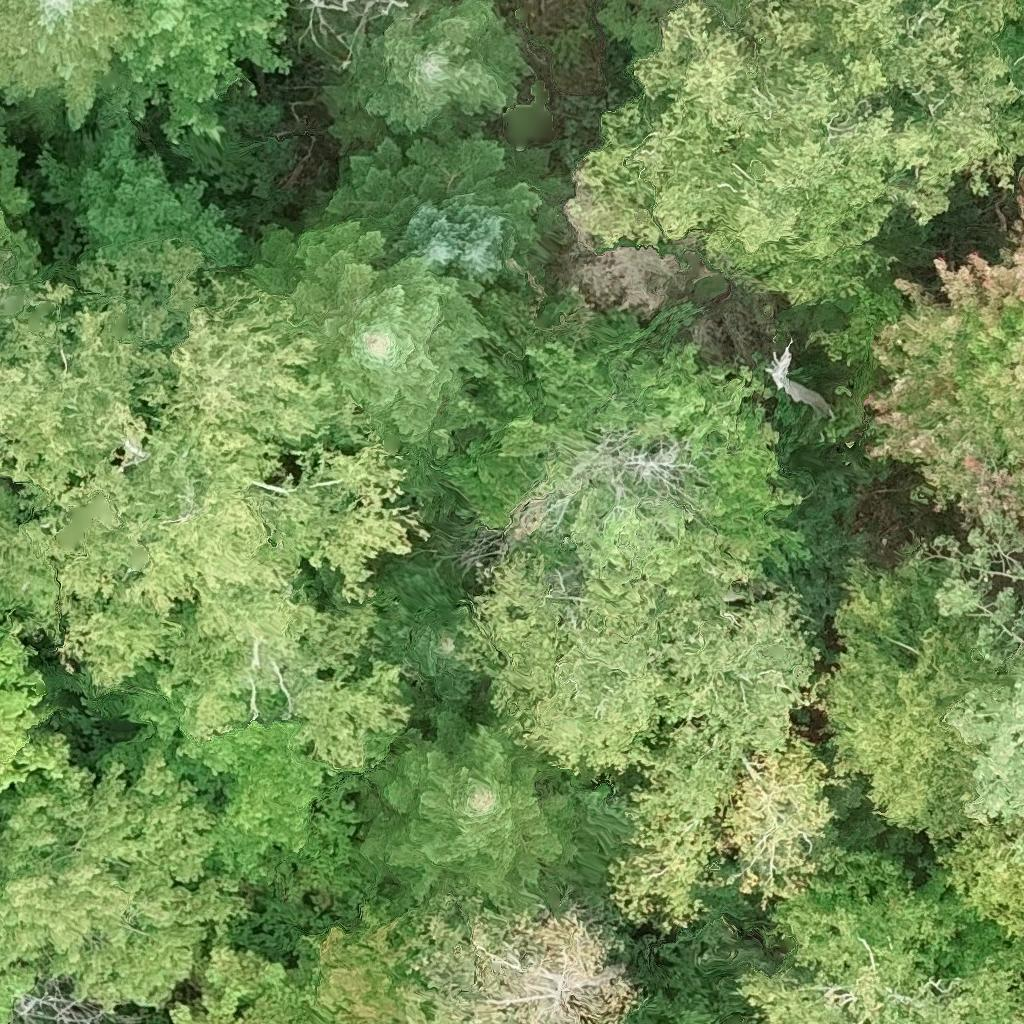crown: (16, 280, 424, 775), (566, 0, 1023, 309), (432, 298, 812, 595), (585, 580, 847, 926), (455, 527, 765, 778), (807, 182, 1023, 538), (0, 241, 237, 527), (0, 748, 246, 1023), (243, 220, 492, 456), (819, 546, 1013, 841), (323, 120, 576, 286), (364, 711, 576, 900), (294, 0, 534, 155), (739, 893, 1023, 1023), (41, 89, 245, 265), (172, 718, 349, 897), (396, 903, 639, 1023), (99, 0, 292, 145), (929, 524, 1023, 820), (0, 0, 132, 126), (372, 556, 480, 707), (294, 904, 412, 1023), (0, 634, 71, 791), (171, 947, 313, 1023), (934, 808, 1023, 929), (0, 129, 43, 284), (0, 479, 26, 643), (1016, 840, 1023, 862), (1021, 171, 1023, 180), (1023, 565, 1023, 566)
